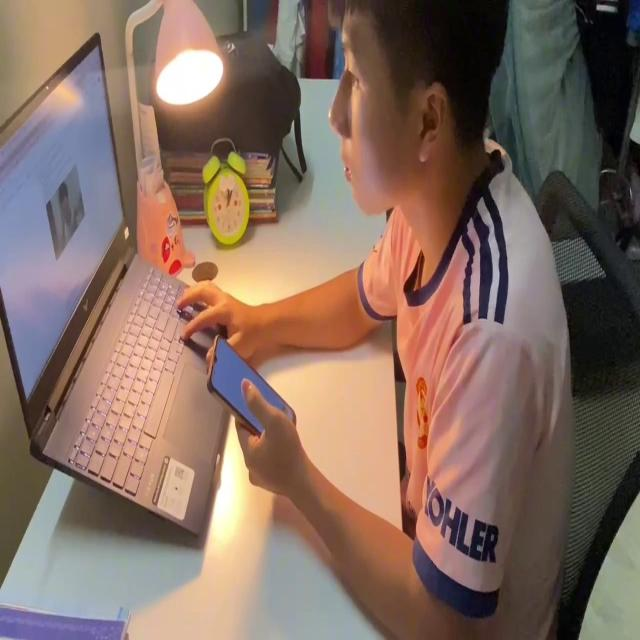laptop: (0, 32, 230, 550)
phone: (209, 329, 298, 440)
student: (175, 0, 574, 640)
